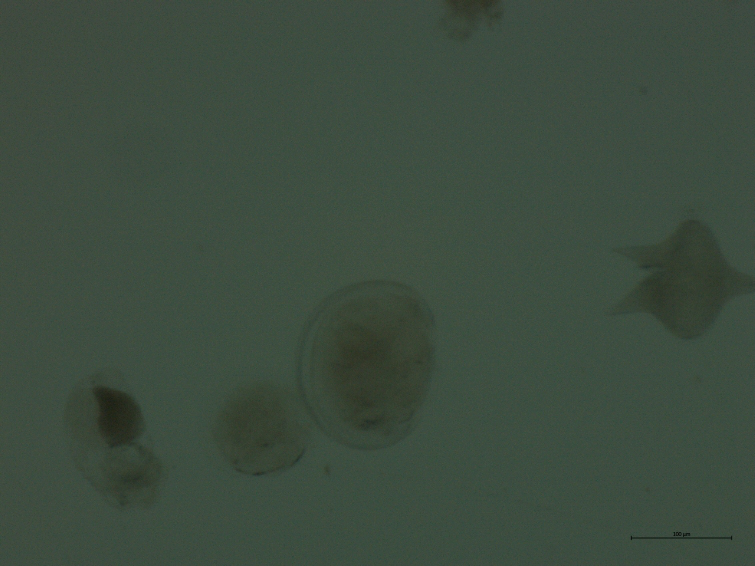oyster: (287, 272, 448, 460)
